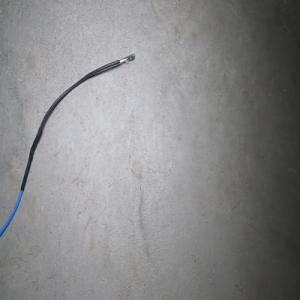Wire: (0, 51, 134, 237)
